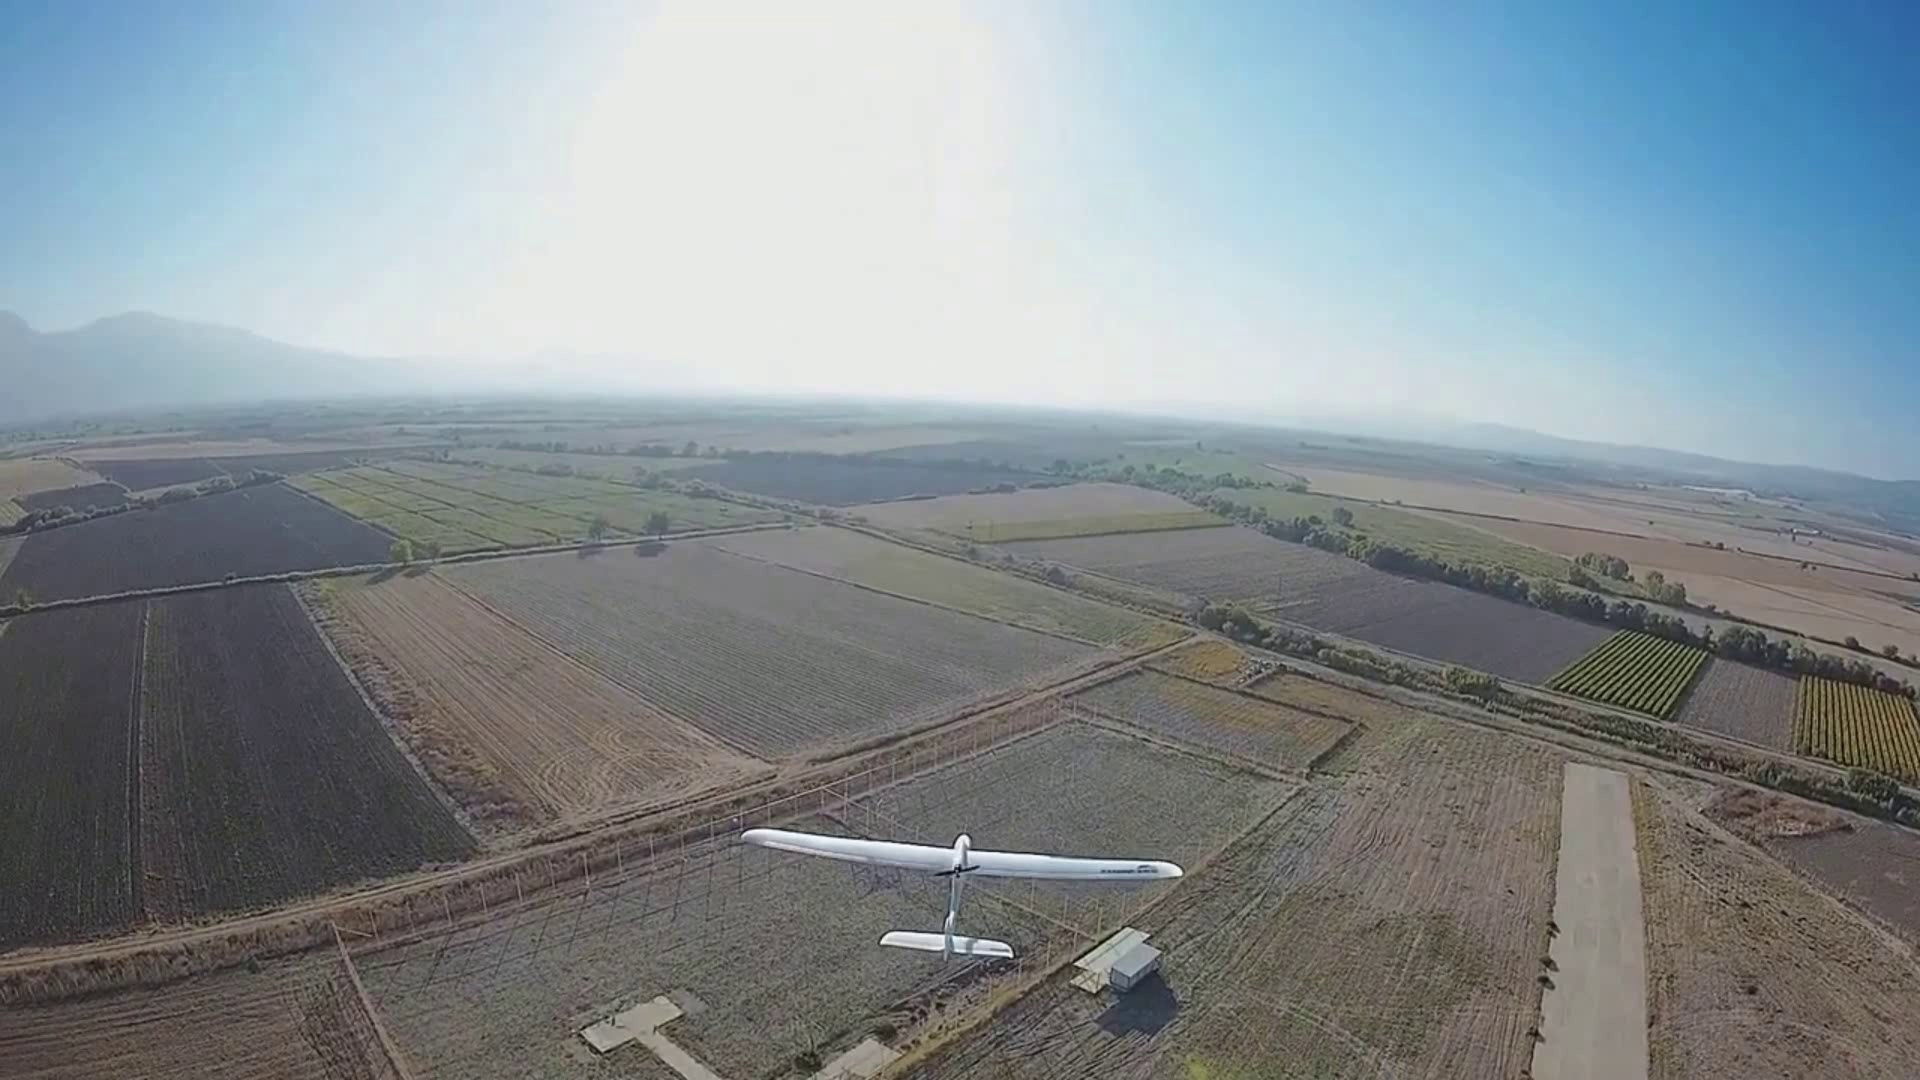airplane: (740, 815, 1183, 968)
